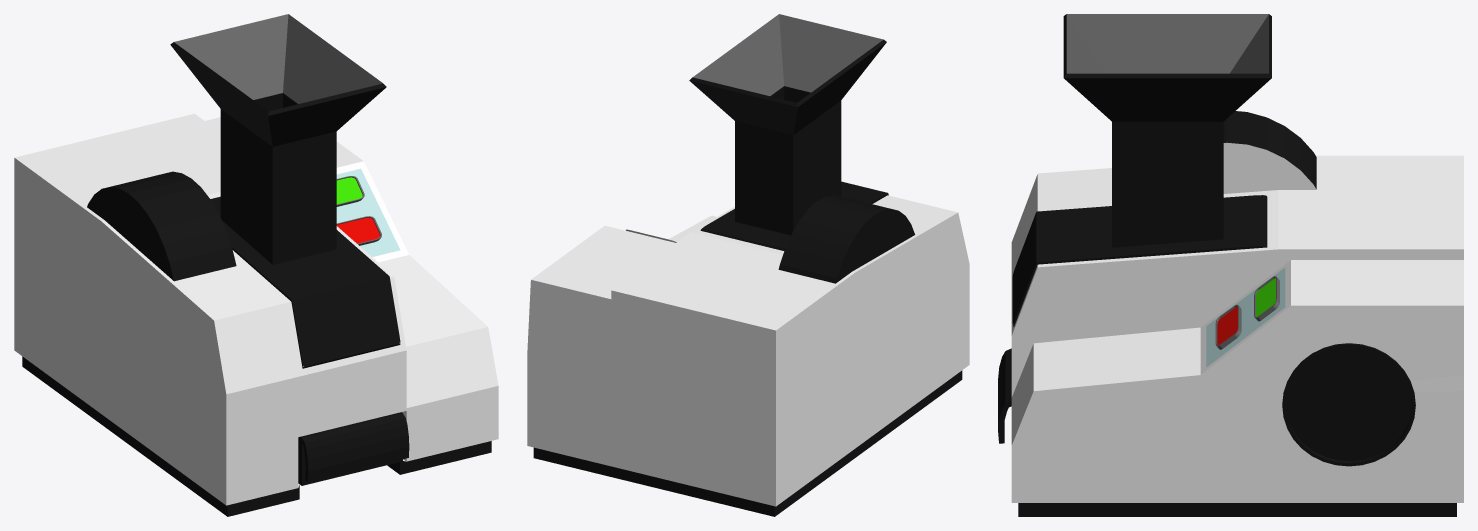
Rendered from Jaw Crusher.fbx.
3 renders of one model, left to right at view 1: azimuth 30°, elevation 25°; view 2: azimuth 150°, elevation 25°; view 3: azimuth 270°, elevation 25°, orthographic. The views are drawn at different scales.
Parts seen in each view (by area): view 1: Than, Cube, Stop, Start; view 2: Than; view 3: Than, Cube, Stop, Start.
Part boxes in pixels (bbox=[...]): Than: bbox=[14, 14, 498, 516]; Cube: bbox=[298, 412, 409, 485]; Stop: bbox=[336, 216, 381, 245]; Start: bbox=[336, 176, 364, 206]; Than: bbox=[527, 14, 969, 516]; Than: bbox=[1011, 14, 1463, 516]; Cube: bbox=[998, 348, 1011, 443]; Stop: bbox=[1215, 304, 1241, 349]; Start: bbox=[1254, 276, 1279, 321].
Bounding box in the file's own units: 61.99 × 80.63 × 85.39.
